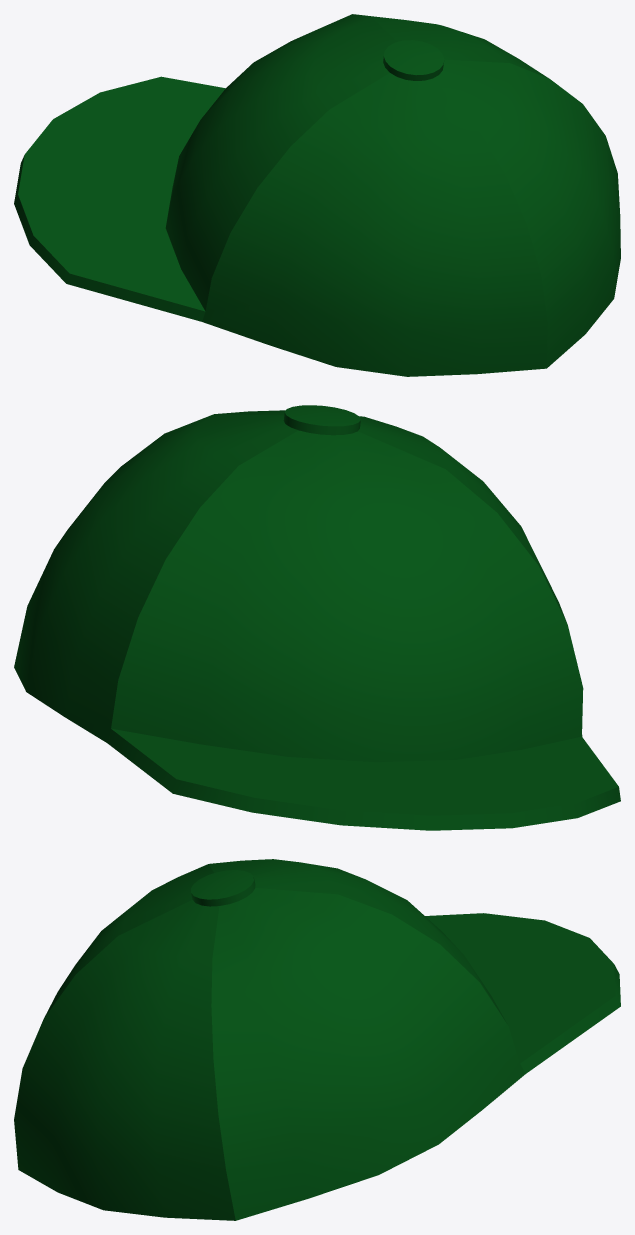
Rendered from baseballcap_basic_green.glb.
3 renders of one model, top to bottom at view 1: azimuth 30°, elevation 25°; view 2: azimuth 150°, elevation 25°; view 3: azimuth 270°, elevation 25°, orthographic. The views are drawn at different scales.
Parts seen in each view (by area): view 1: 0.030; view 2: 0.030; view 3: 0.030.
Part boxes in pixels (x1,y1,x2,y2): 0.030: (14,14,620,376); 0.030: (14,405,620,830); 0.030: (14,859,620,1220).
Bounding box in the file's own units: 0.5039 × 0.2436 × 0.4932.
